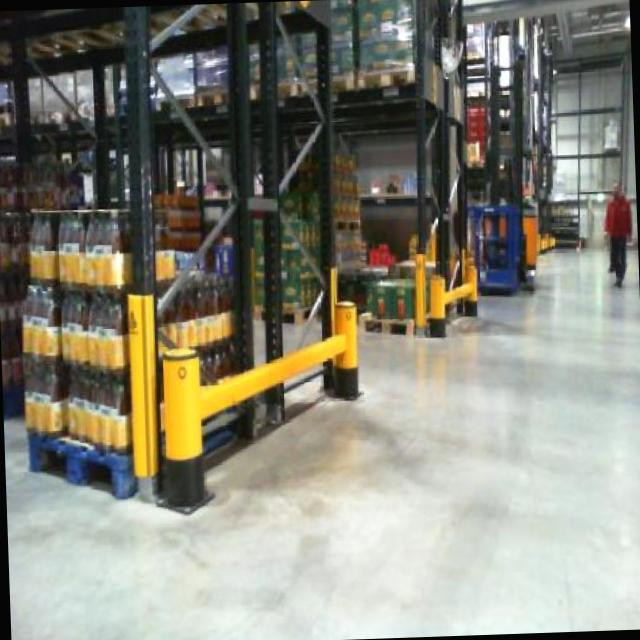pallet: (332, 214, 362, 240)
